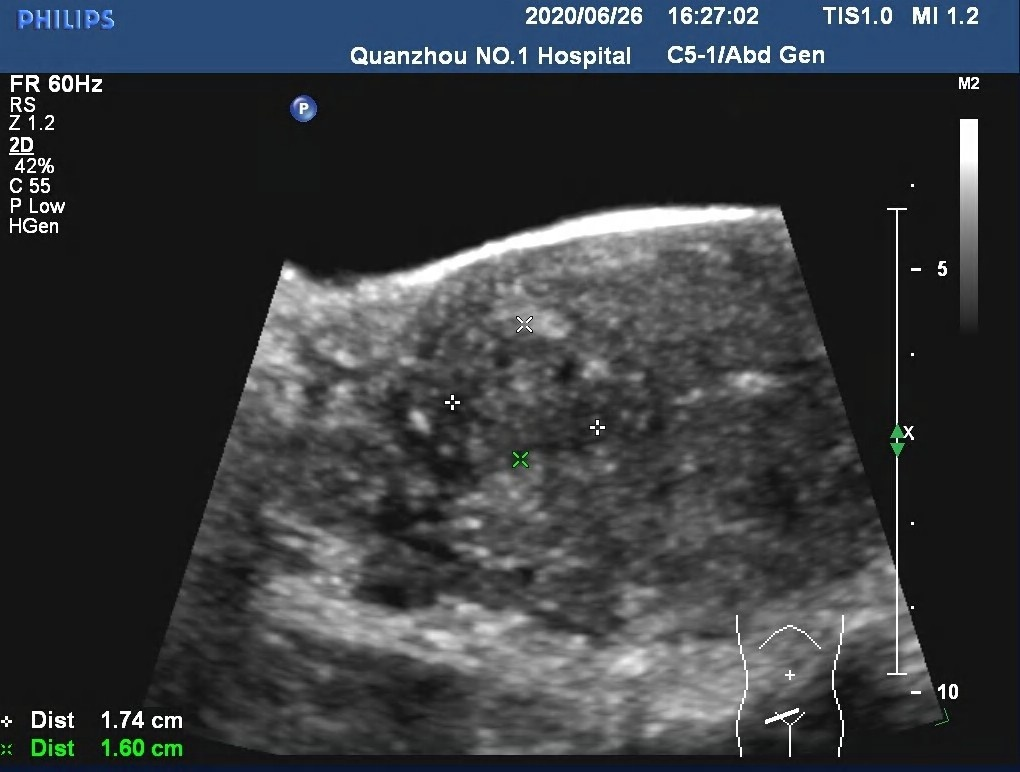肌瘤: (456, 334, 592, 455)
